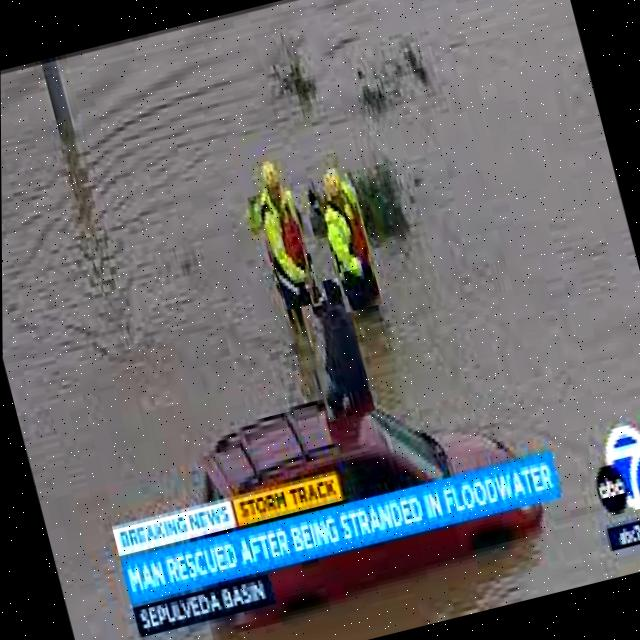rescuer: (238, 144, 328, 332), (307, 149, 393, 340)
